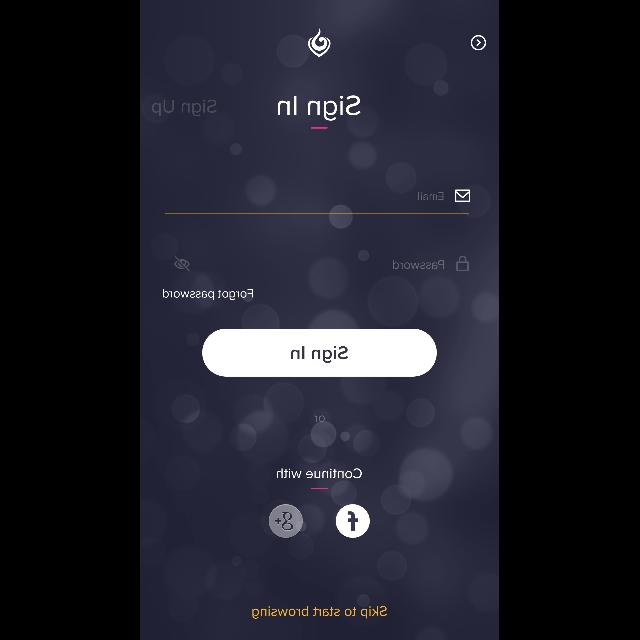backgroundimage: (140, 1, 500, 640)
icon: (336, 504, 370, 538), (269, 504, 303, 538), (174, 256, 190, 272), (472, 36, 486, 50), (457, 256, 469, 272), (456, 190, 470, 202)
image: (308, 28, 332, 58)
input: (165, 256, 469, 282), (165, 190, 471, 214)
text: (278, 96, 362, 120), (252, 606, 388, 618), (152, 100, 218, 116), (163, 290, 253, 300), (278, 468, 362, 478), (394, 260, 444, 270), (420, 192, 444, 200), (314, 416, 326, 422)
textbutton: (202, 329, 438, 377)
